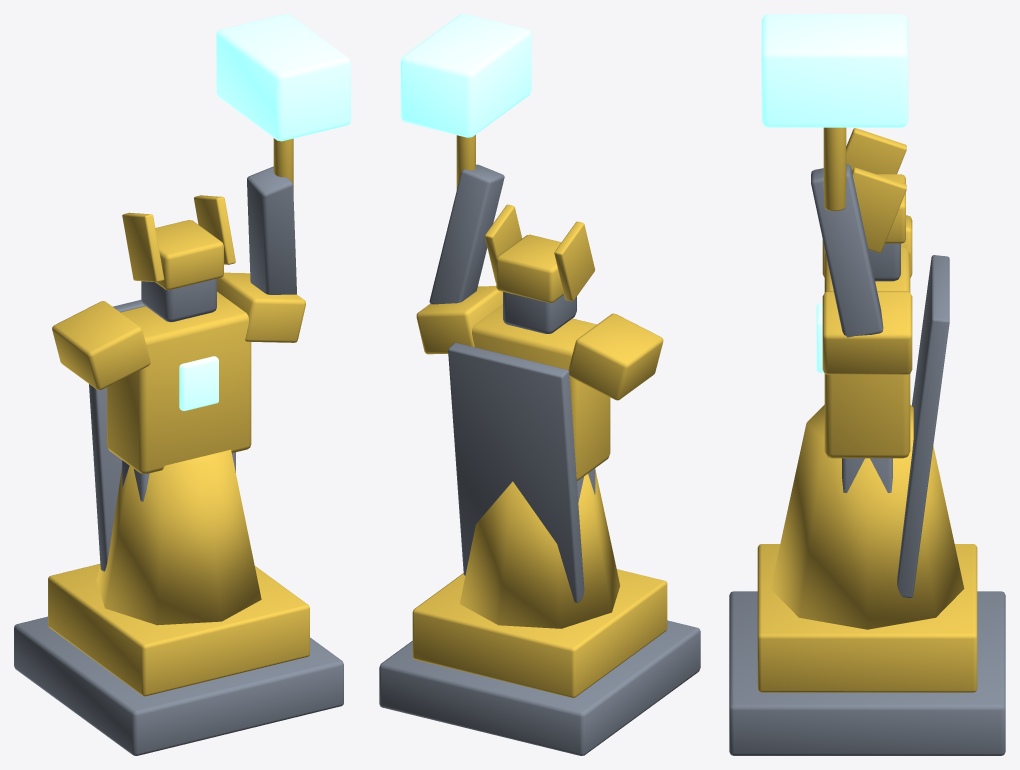
The model's file is statue_thor.glb.
The picture shows the model from 3 angles, left to right: view 1: azimuth 30°, elevation 25°; view 2: azimuth 150°, elevation 25°; view 3: azimuth 270°, elevation 25°; orthographic projection. The views are drawn at different scales.
Parts seen in each view (by area): view 1: robe, pedestal_1, pedestal_2, torso, mjolnir_head, pauldron_-1, arm_raise, pauldron_1, helm, cape, head, wing_-1 (+3 smaller); view 2: cape, pedestal_1, pedestal_2, robe, mjolnir_head, torso, arm_raise, pauldron_-1, helm, pauldron_1, head, wing_-1 (+2 smaller); view 3: robe, pedestal_1, pedestal_2, mjolnir_head, torso, cape, arm_raise, pauldron_1, wing_1, wing_-1, mjolnir_handle, head (+3 smaller).
Boxes of the visible parts, x1,y1,x2,y2 form: robe: (96, 449, 261, 625); pedestal_1: (14, 616, 343, 755); pedestal_2: (48, 564, 309, 696); torso: (107, 291, 251, 473); mjolnir_head: (216, 14, 350, 141); pauldron_-1: (52, 301, 150, 390); arm_raise: (247, 166, 296, 294); pauldron_1: (217, 272, 305, 342); helm: (155, 220, 223, 290); cape: (89, 299, 144, 571); head: (141, 278, 216, 322); wing_-1: (122, 212, 164, 282); cape: (448, 343, 584, 602); pedestal_1: (379, 620, 700, 755); pedestal_2: (412, 569, 667, 697); robe: (459, 470, 620, 628); mjolnir_head: (400, 14, 531, 137); torso: (472, 304, 610, 481); arm_raise: (429, 164, 504, 304); pauldron_-1: (568, 313, 663, 400); helm: (496, 234, 563, 302); pauldron_1: (416, 286, 502, 354); head: (503, 292, 576, 333); wing_-1: (554, 221, 595, 301); robe: (770, 404, 964, 629); pedestal_1: (729, 591, 1005, 755); pedestal_2: (757, 544, 977, 692); mjolnir_head: (761, 14, 908, 127); torso: (824, 247, 910, 458); cape: (897, 255, 949, 597); arm_raise: (811, 164, 883, 337); pauldron_1: (822, 291, 912, 374); wing_1: (852, 167, 906, 252); wing_-1: (846, 128, 906, 174); mjolnir_handle: (823, 127, 846, 211); head: (868, 243, 900, 281).
Size of the model in its own units: 7.6 by 19.45 by 6.8.
